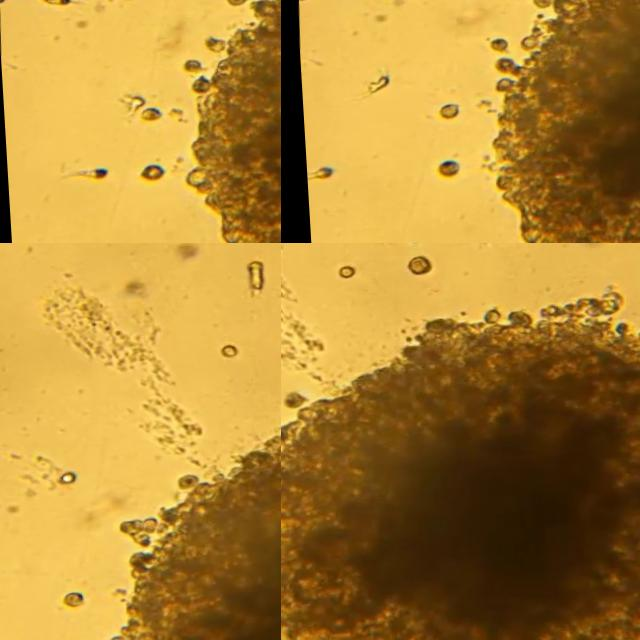cell: (112, 97, 141, 118), (59, 168, 99, 182), (401, 264, 429, 283), (56, 593, 80, 610), (246, 266, 259, 297), (170, 249, 195, 264), (197, 41, 219, 57), (432, 106, 454, 122), (133, 166, 155, 181), (281, 398, 304, 412), (363, 79, 383, 95), (301, 167, 327, 179), (484, 42, 504, 56), (430, 165, 449, 179), (216, 350, 236, 363), (177, 63, 196, 76), (526, 0, 545, 13), (332, 271, 352, 283), (57, 472, 71, 488), (135, 111, 155, 122), (222, 0, 240, 11), (39, 0, 65, 6), (406, 243, 419, 250)
tumor_mass: (281, 298, 640, 640), (480, 0, 640, 243), (110, 433, 281, 640)
